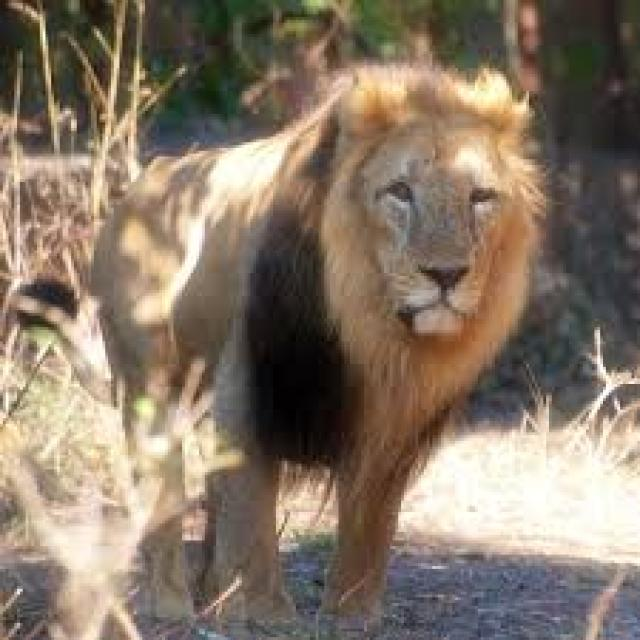Lion: (91, 63, 546, 612)
